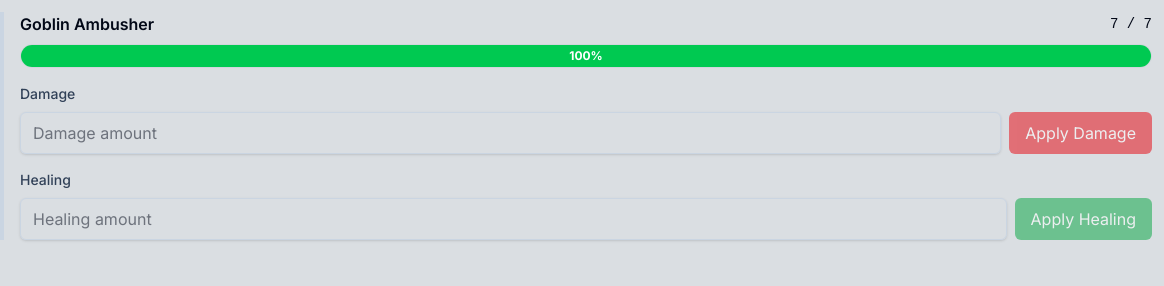
HPTracker Component › Damage Input Validation › should show error for negative damage
The width and height of the screenshot is (1164, 286).
Type "-5" into the number field with placeholder "Damage amount".
click(511, 133); type("-5")  # box top-left (20, 112), bottom-right (1001, 154)
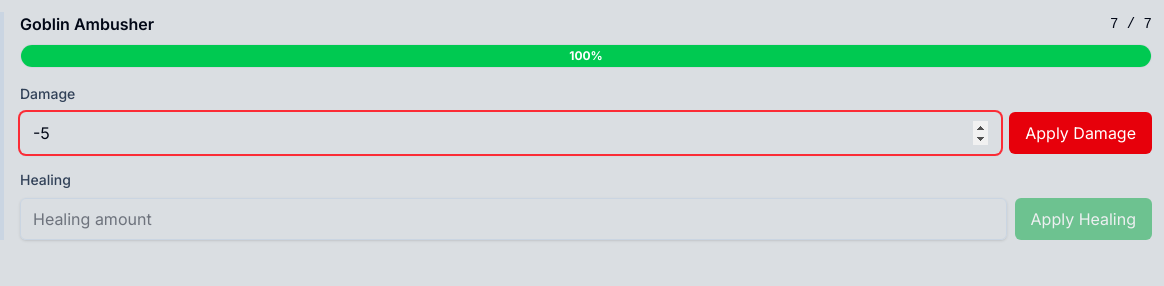
Click the button "Apply Damage".
click(1081, 133)  # box top-left (1009, 112), bottom-right (1152, 154)
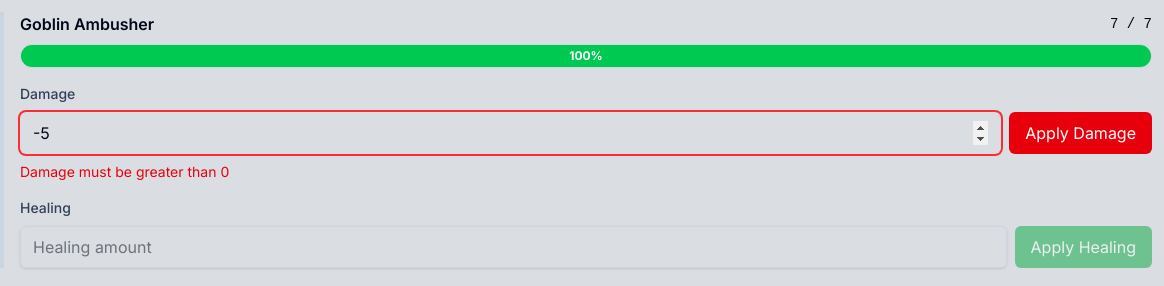
Expected: the text "Damage must be greater than 0" is shown, top-left (20, 163), bottom-right (229, 180)
